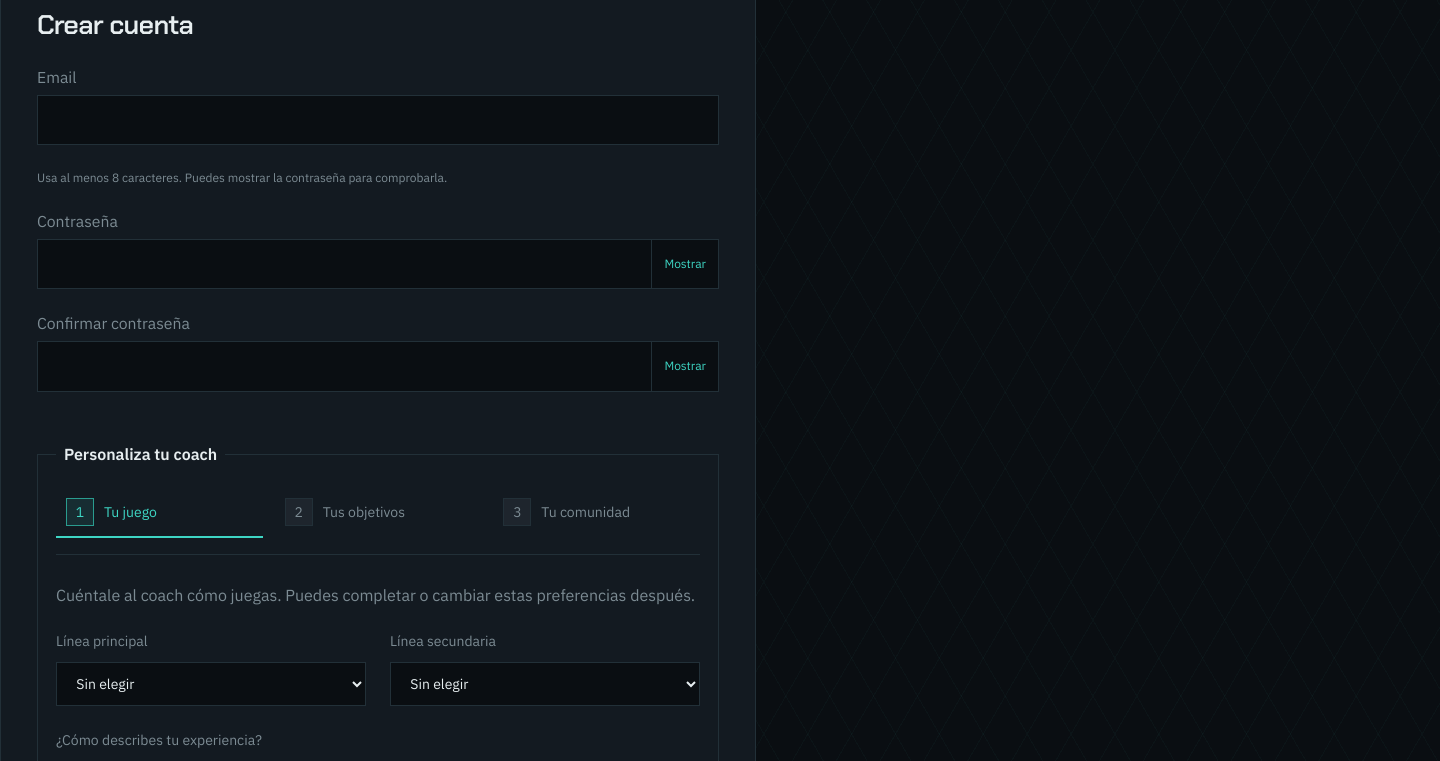
Test: RegisterForm › registra y muestra el mensaje de verificación
Type "a@b.com" into the field labelled "Email". click: (378, 120)
box: [37,95,719,145]
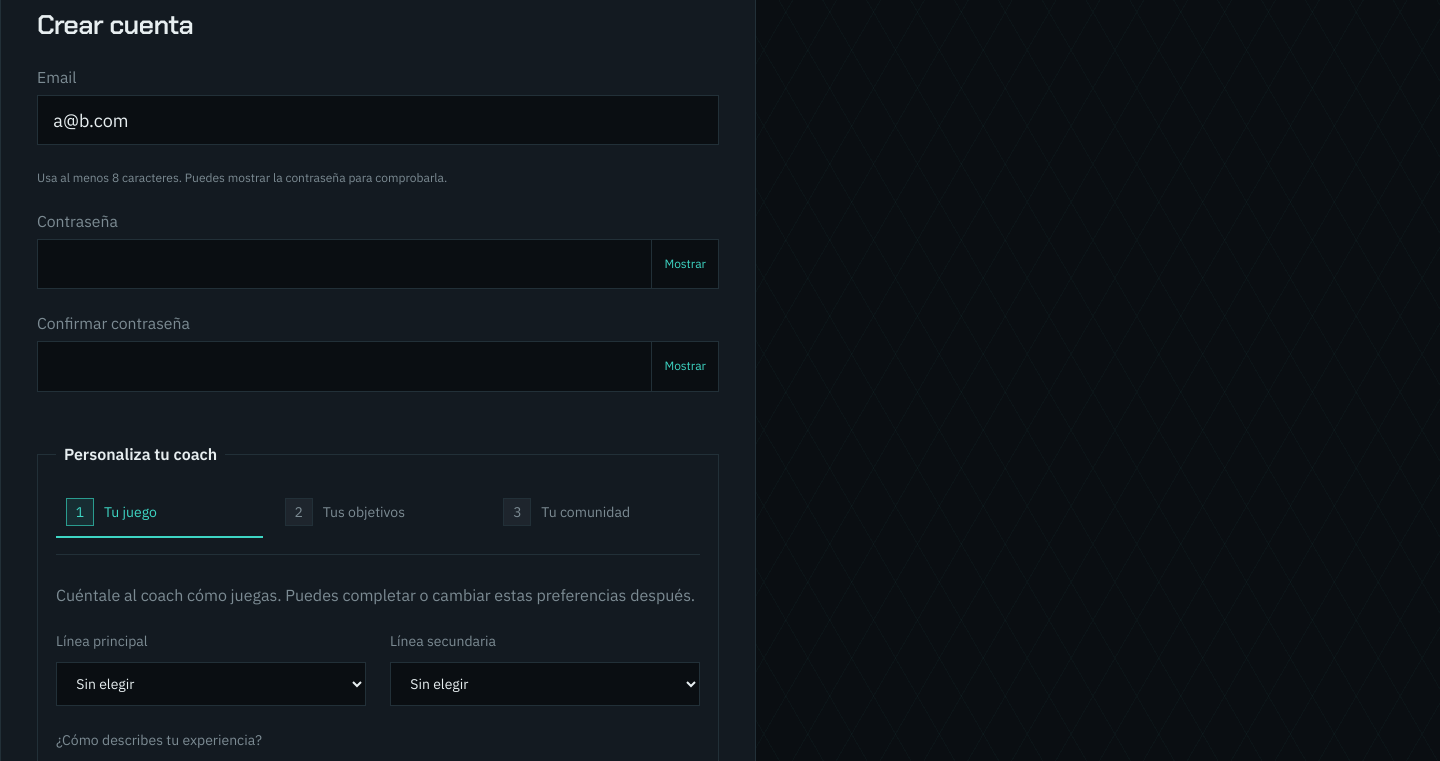
Type "password123" into the password field labelled "Contraseña Mostrar". click: (344, 264)
box: [37,239,651,289]
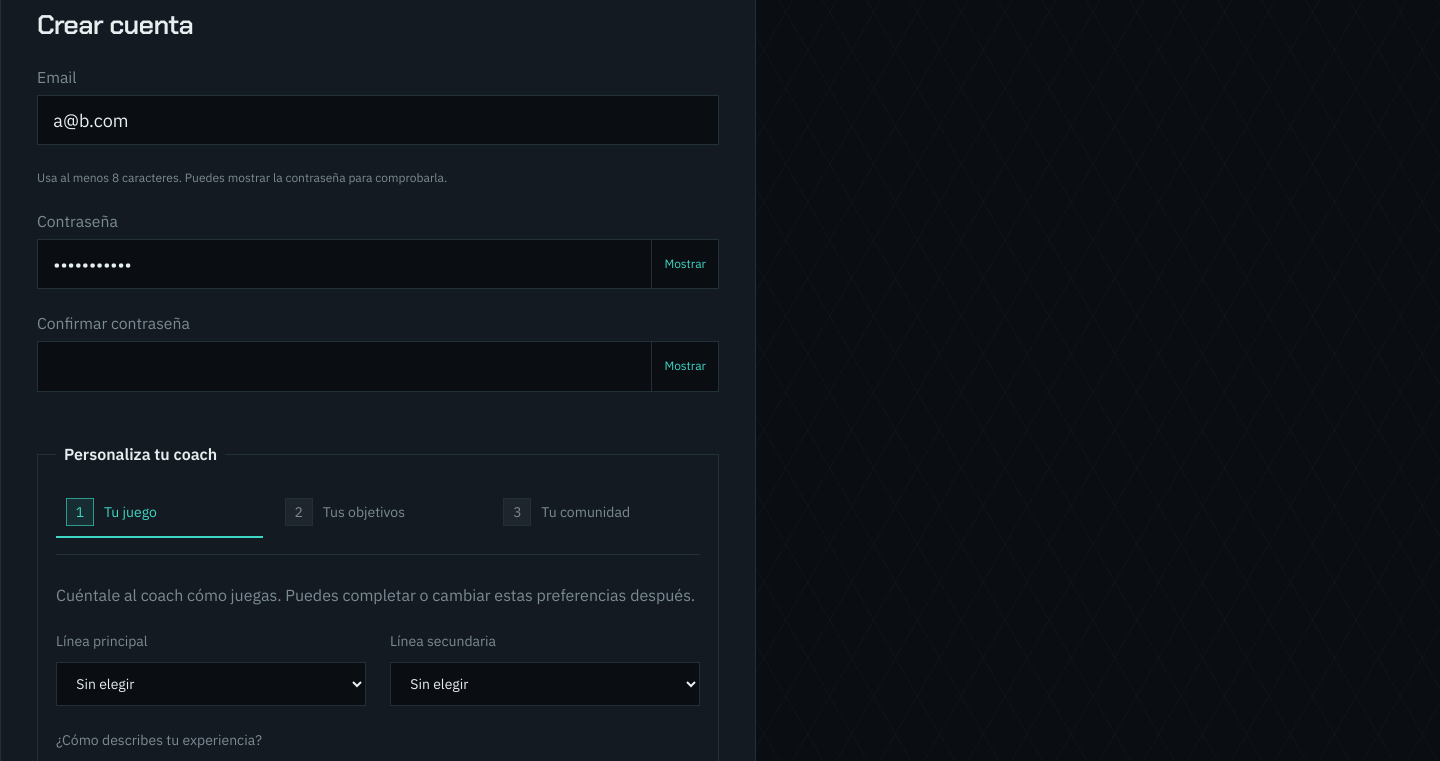
Type "password123" into the password field labelled "Confirmar contraseña Mostrar". click: (344, 366)
box: [37,341,651,392]
(page scrolled)
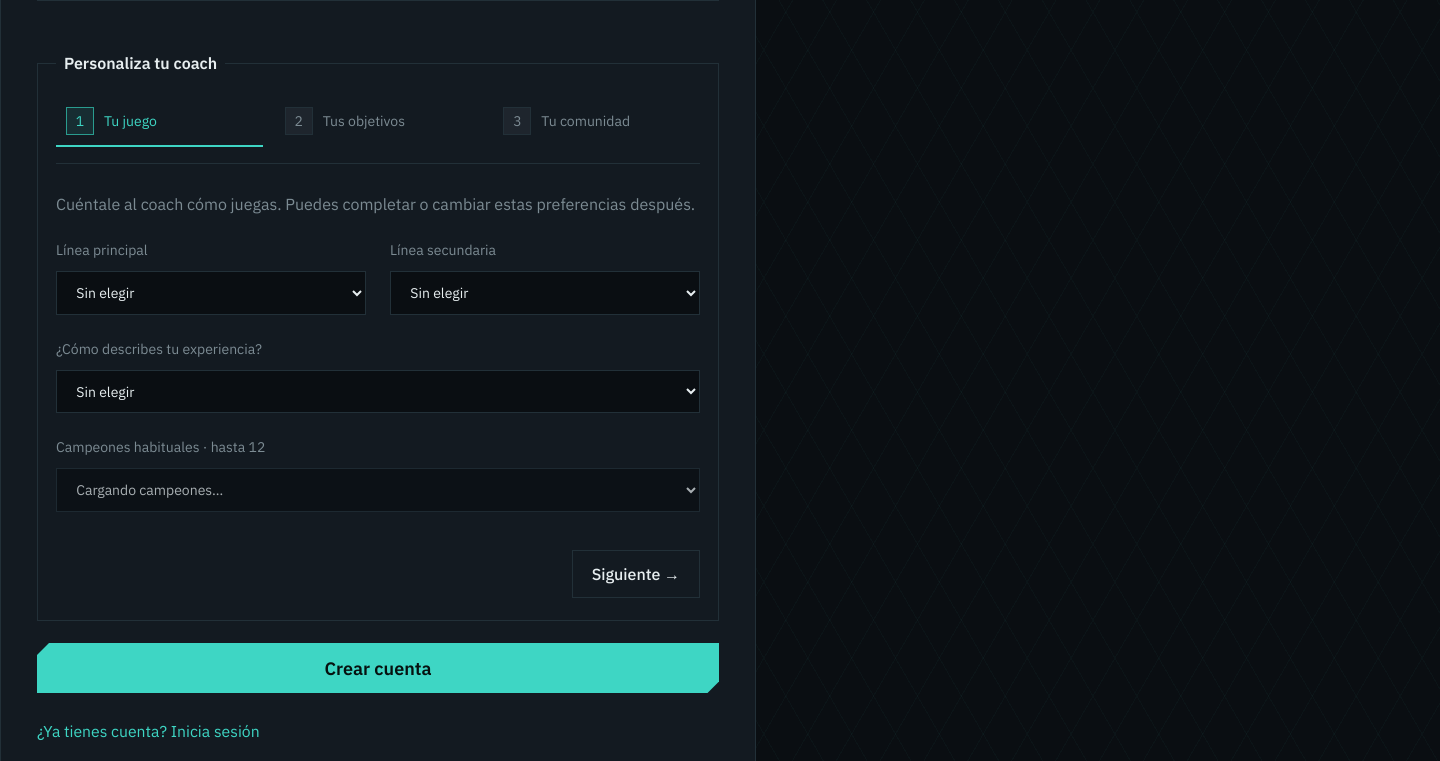
Click the button "Crear cuenta". click: (378, 668)
box: [37,643,719,694]
(page scrolled)
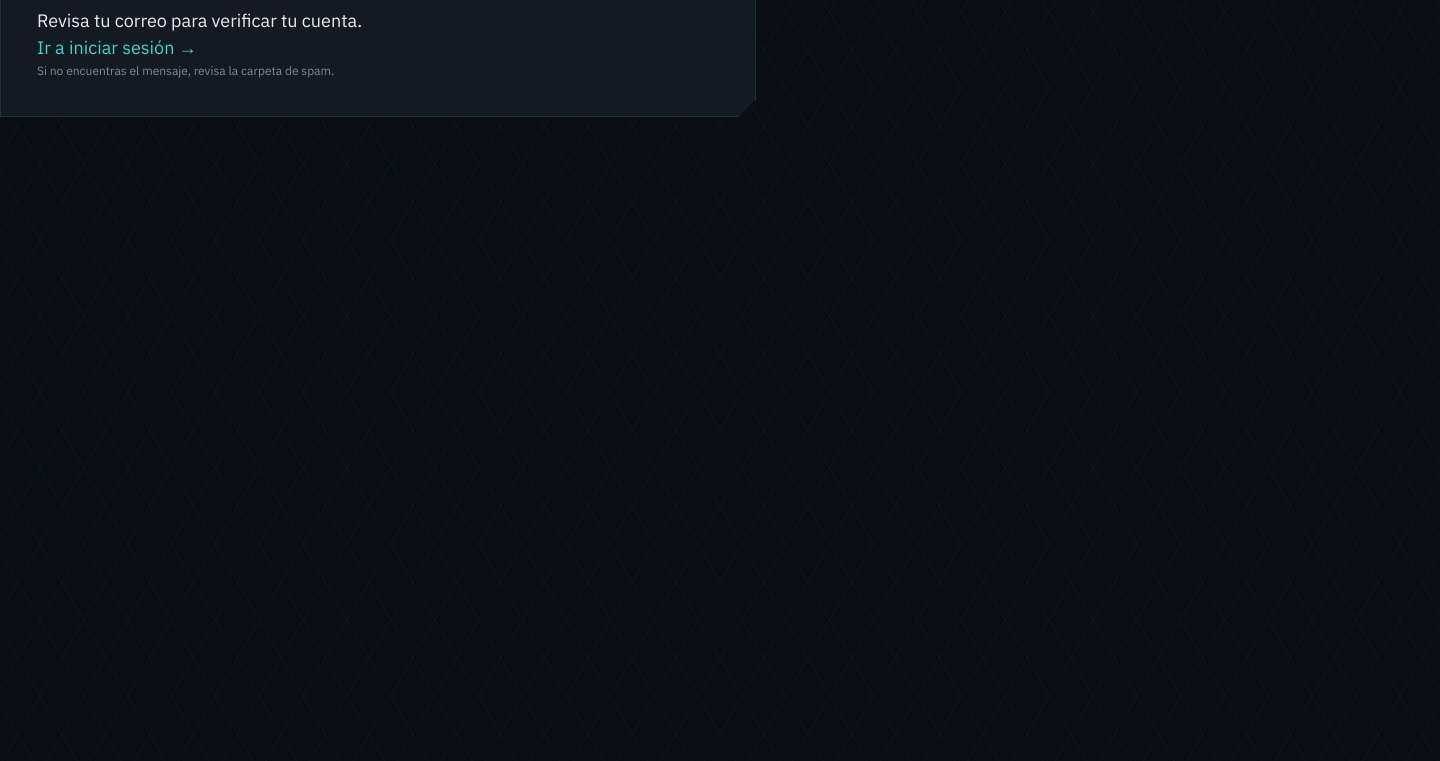
Check: the text "Revisa tu correo para verificar tu cuenta." is shown, box [37,9,362,32]
